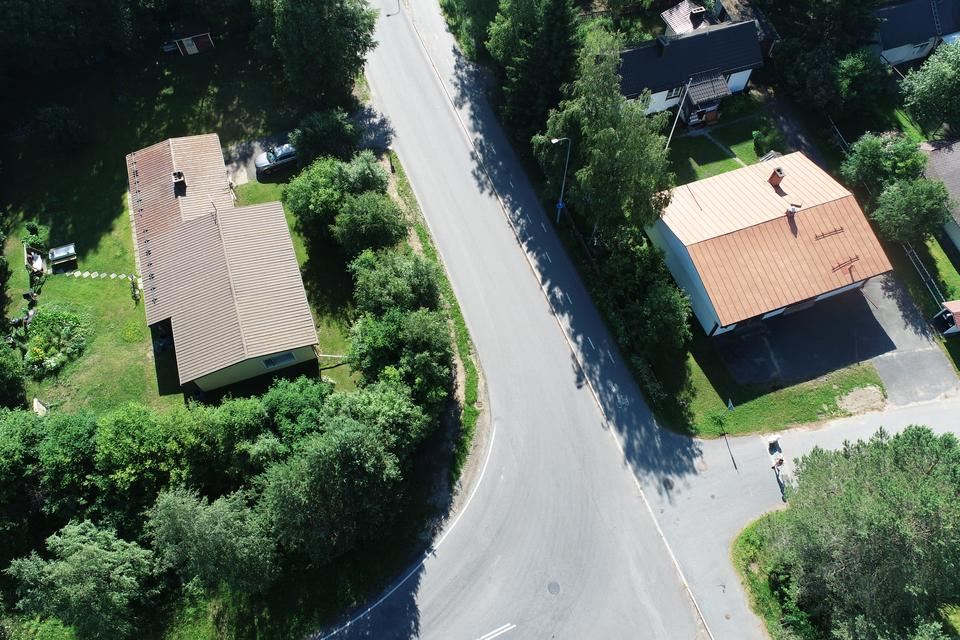intersection: (352, 396, 800, 640)
